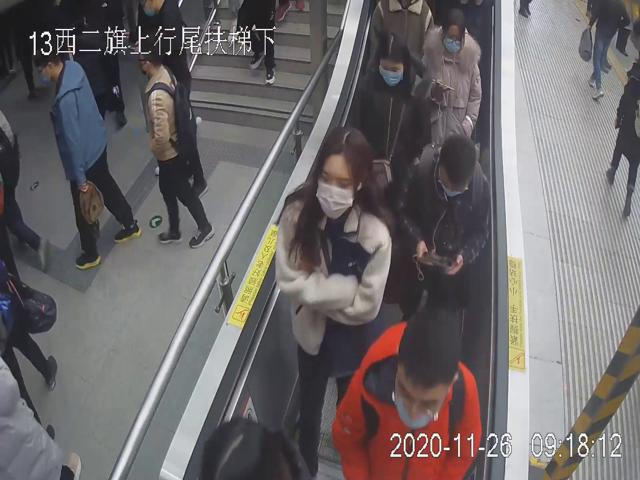person: (273, 123, 392, 472), (331, 299, 485, 480), (30, 32, 143, 272), (387, 130, 495, 312), (136, 32, 216, 247), (349, 25, 432, 184), (420, 5, 484, 149)
